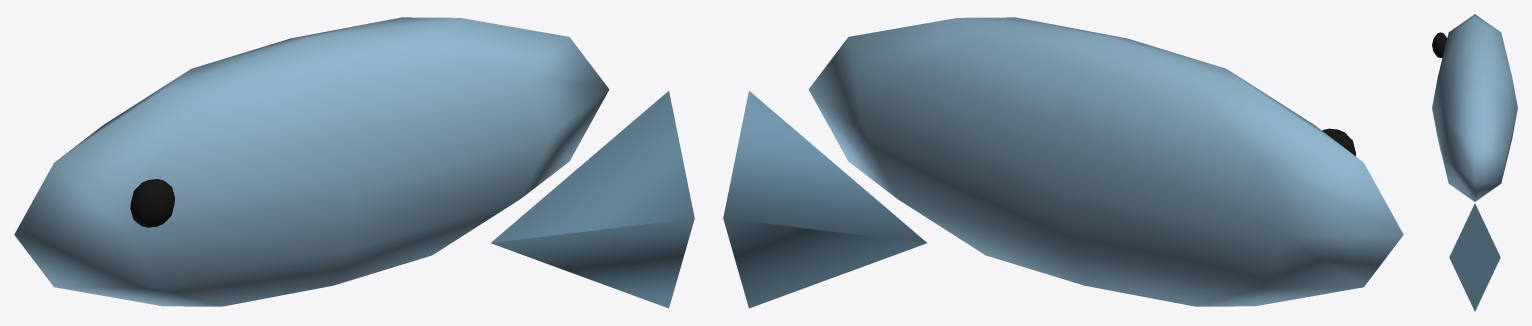
Rendered from letrero-mariscos.glb.
3 renders of one model, left to right at view 1: azimuth 30°, elevation 25°; view 2: azimuth 150°, elevation 25°; view 3: azimuth 270°, elevation 25°, orthographic. The views are drawn at different scales.
Visible parts, largest first — view 1: letrero-mariscos; view 2: letrero-mariscos; view 3: letrero-mariscos.
Part boxes in pixels (box(x1,y1,x2,y2)): letrero-mariscos: box(14, 17, 694, 308); letrero-mariscos: box(723, 17, 1403, 308); letrero-mariscos: box(1432, 14, 1517, 311).
Size of the model in its own units: 0.44 by 0.23 by 0.1.
